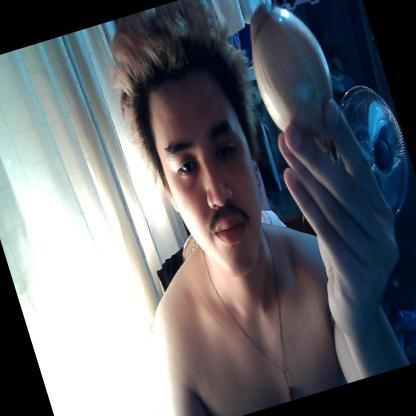onion: (234, 0, 355, 162)
